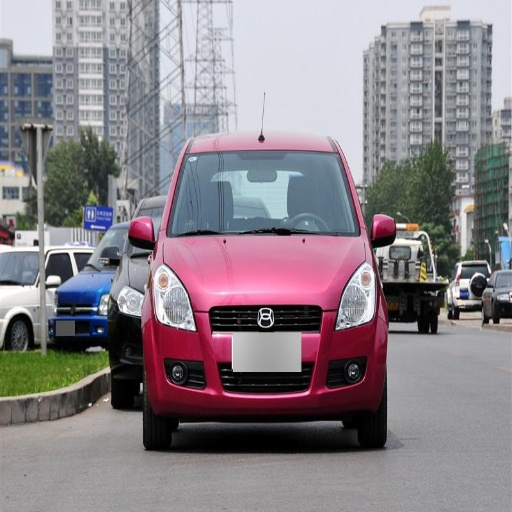front_bumper: (144, 309, 381, 420)
front_right_light: (153, 271, 197, 333)
hood: (160, 236, 371, 309)
